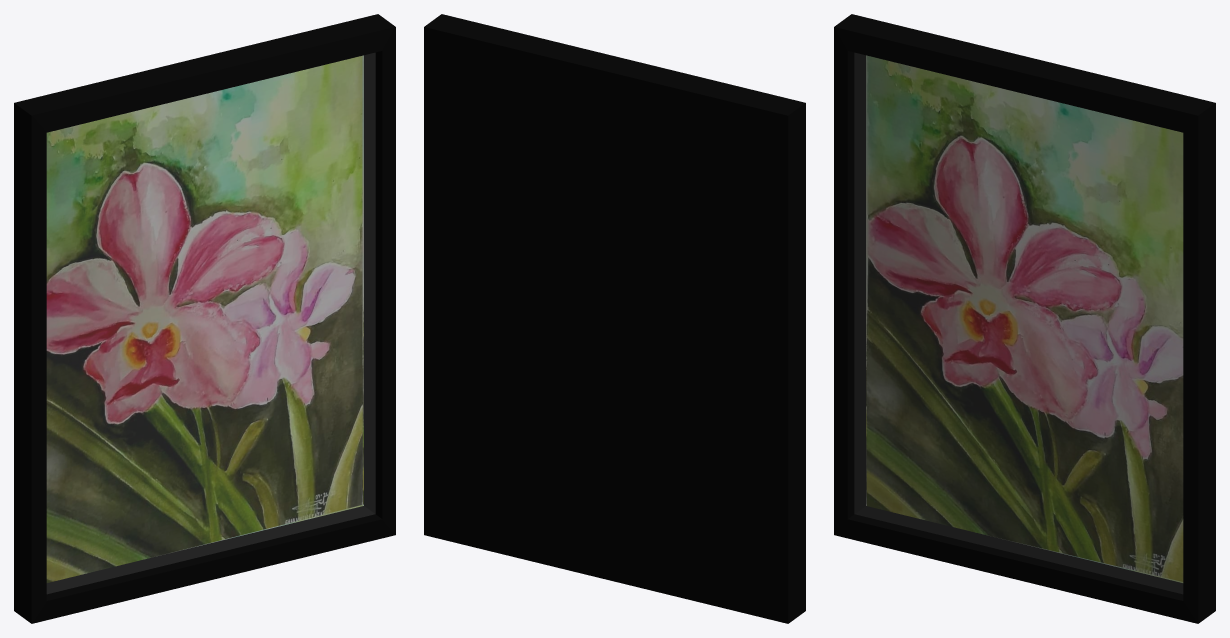
The model's file is Orchids Painting.glb.
The picture shows the model from 3 angles, left to right: view 1: azimuth 30°, elevation 25°; view 2: azimuth 150°, elevation 25°; view 3: azimuth 330°, elevation 25°; orthographic projection.
Visible parts, largest first — view 1: Cube; view 2: Cube; view 3: Cube.
Part boxes in pixels (x1,y1,x2,y2): Cube: (14, 14, 395, 623); Cube: (424, 14, 805, 623); Cube: (834, 14, 1215, 623).
Bounding box in the file's own units: 0.4572 × 0.6096 × 0.04.
3 materials, 1 textured.
